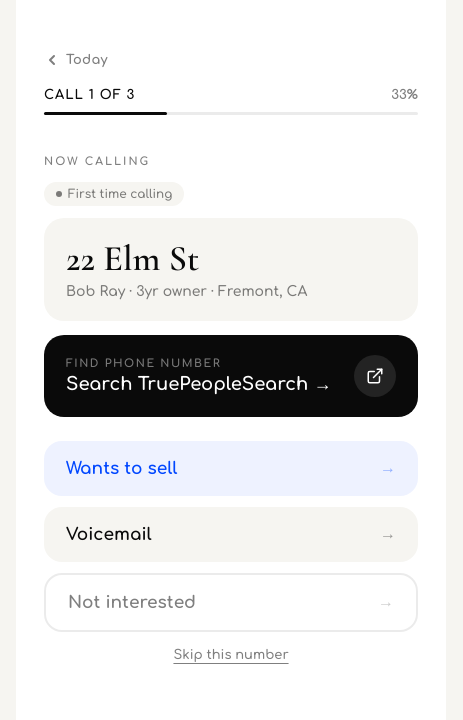
Scenario: DialSession › finishes the queue: summary, hot leads, and one session row
Click the button "Wants to sell →" at (122, 468), box 44,441 -> 418,496
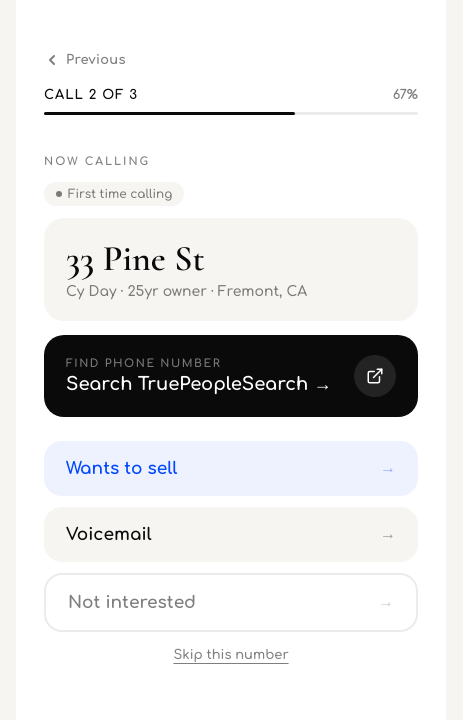
expect the text "Call 2 of 3" is shown: met, box 44,88 -> 138,102
Click the button "Voicemail →" at (109, 534), box 44,507 -> 418,562
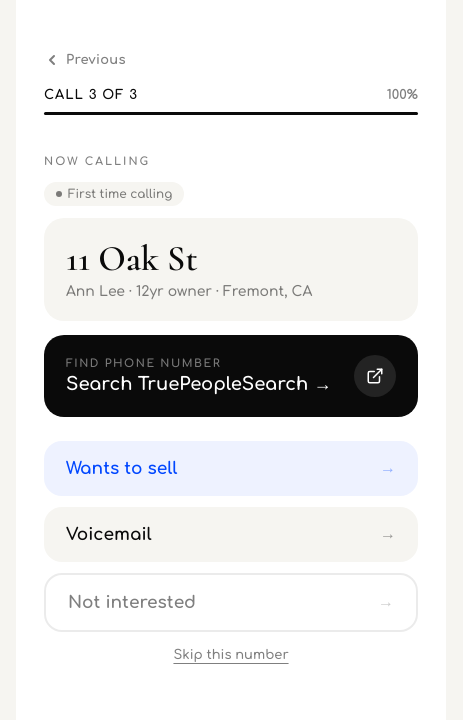
expect the text "Call 3 of 3" is shown: met, box 44,88 -> 138,102
Click the button "Not interested →" at (132, 602), box 44,573 -> 418,632
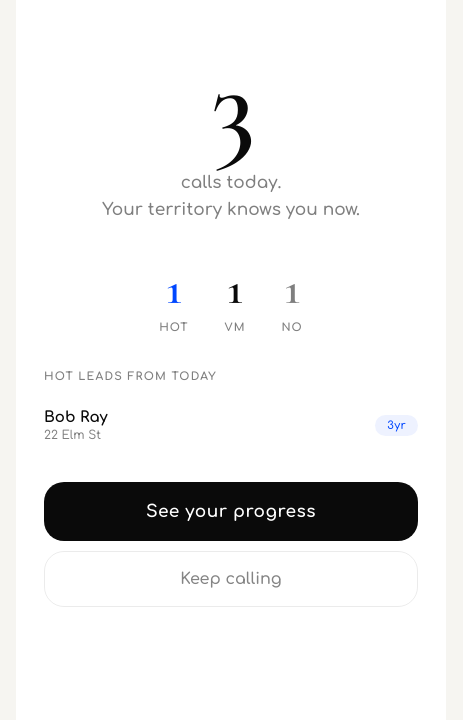
expect the text "calls today.Your territory knows you now." is shown: met, box 102,169 -> 360,223
expect the text "Hot leads from today" is shown: met, box 44,370 -> 217,383
